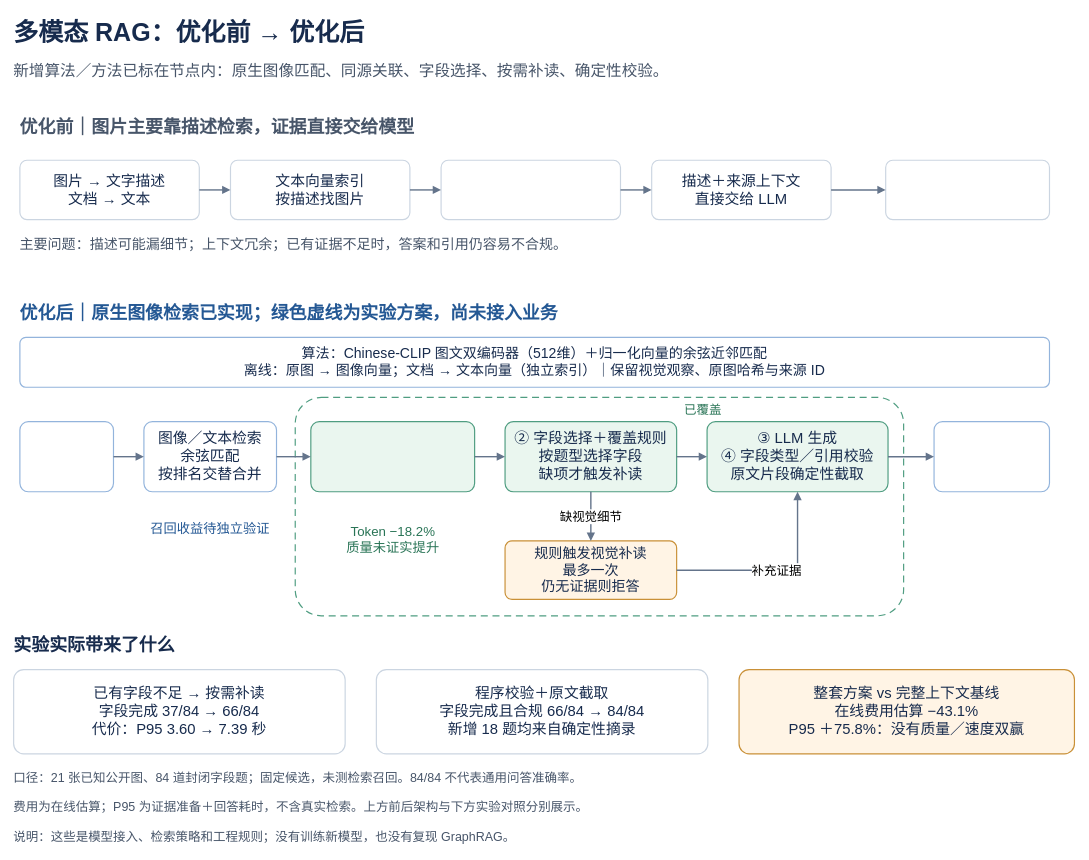
Some shapes in this 1089 by 860 pixel diagram are drawn without their labels. Each missing label, with the centre of its shape:
"① 同源证据组装 SHA-256 哈希校验 按清单关联来源" belongs at point 392,456.
"带引用回答" belongs at point 991,456.
"生成回答 返回引用" belongs at point 967,189.
"用户问题" belongs at point 66,456.
"问题 → 检索 取回候选" belongs at point 530,189.
